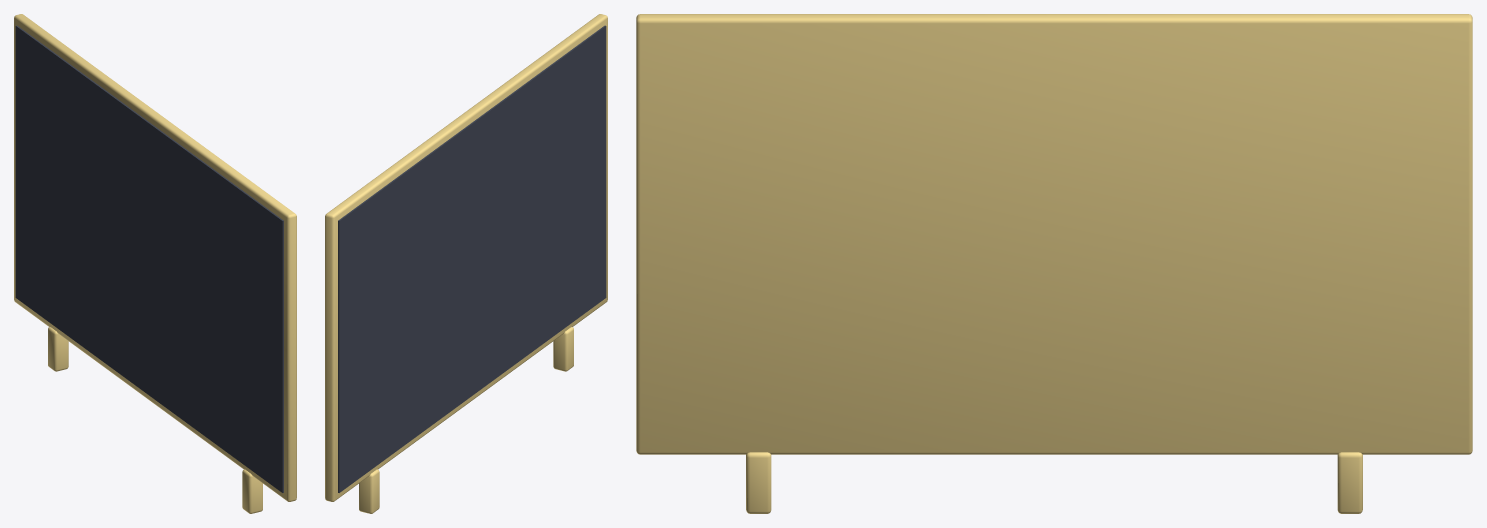
File: SM_Heaven_Screen.fbx
The picture shows the model from 3 angles, left to right: view 1: azimuth 30°, elevation 25°; view 2: azimuth 150°, elevation 25°; view 3: azimuth 270°, elevation 25°; orthographic projection. The views are drawn at different scales.
Visible parts, largest first — view 1: SM_Heaven_Screen; view 2: SM_Heaven_Screen; view 3: SM_Heaven_Screen.
Boxes of the visible parts, bbox=[...] form: SM_Heaven_Screen: bbox=[14, 14, 296, 513]; SM_Heaven_Screen: bbox=[325, 14, 607, 513]; SM_Heaven_Screen: bbox=[636, 14, 1472, 513].
Bounding box in the file's own units: 30 × 990 × 645.
